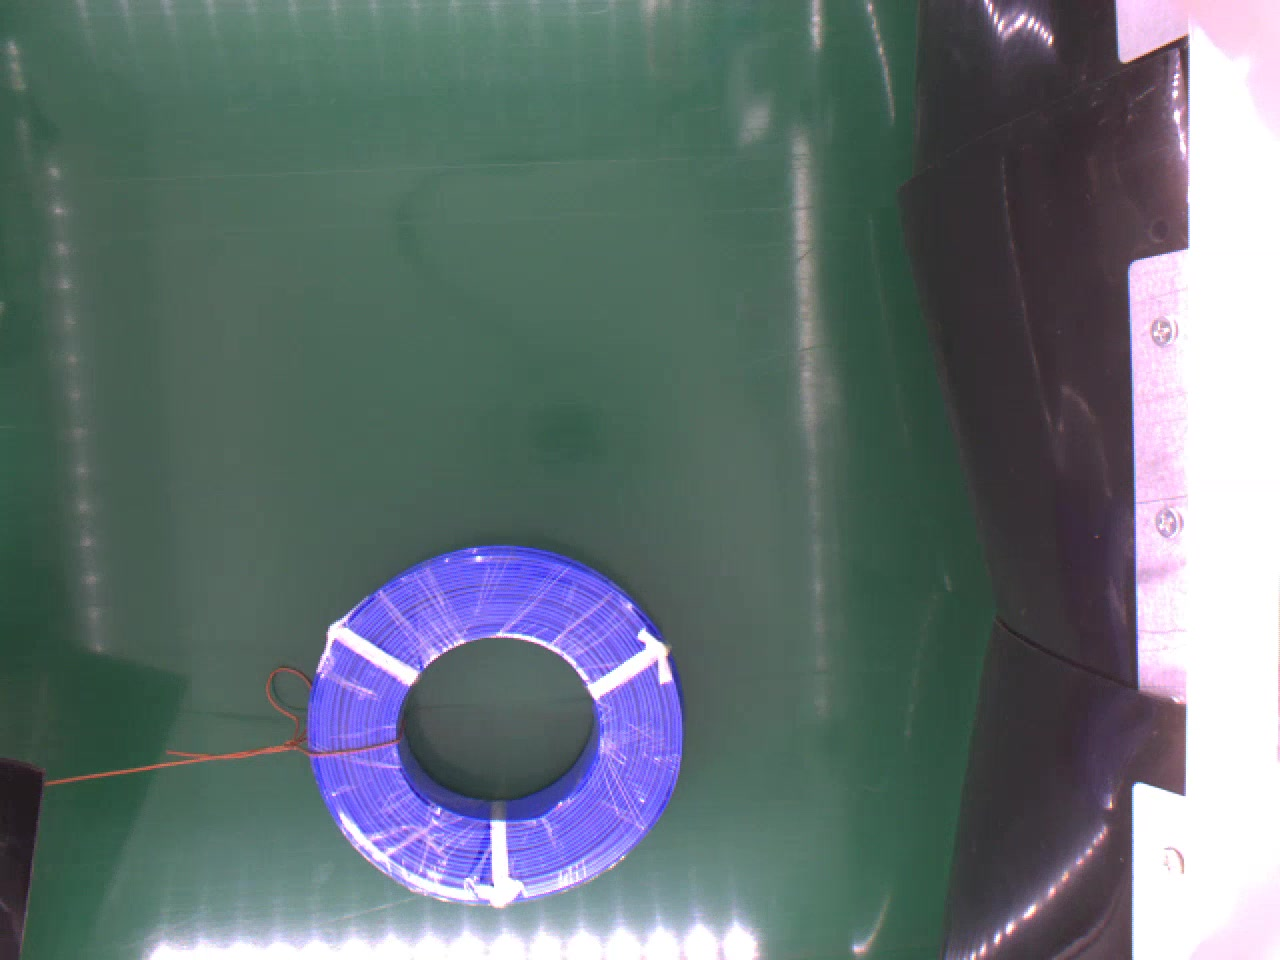blue: (302, 538, 686, 910)
